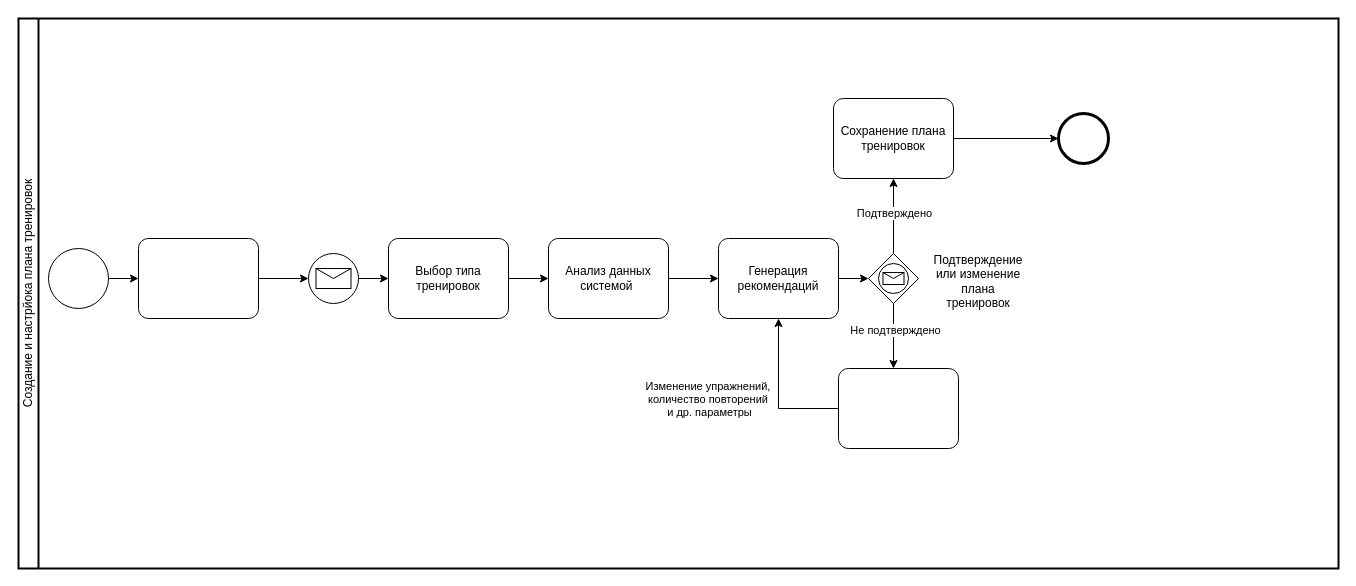
The diagram is 1356 pixels wide and 586 high, and some of its shapes have lost their labels. The centre of each missing label's shape, as x and y in pixels:
"ввод данных пользователем" goes at (198,278).
"Кастомизация плана" goes at (898,408).
